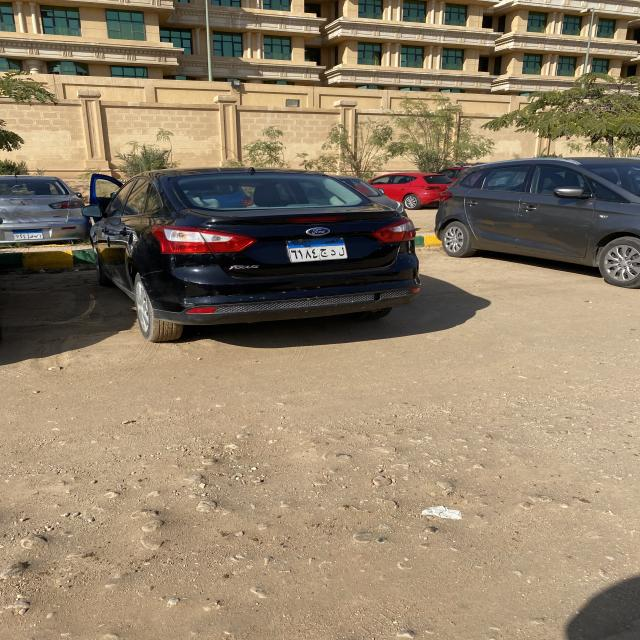License Plate: (286, 237, 348, 262), (13, 229, 44, 240)
